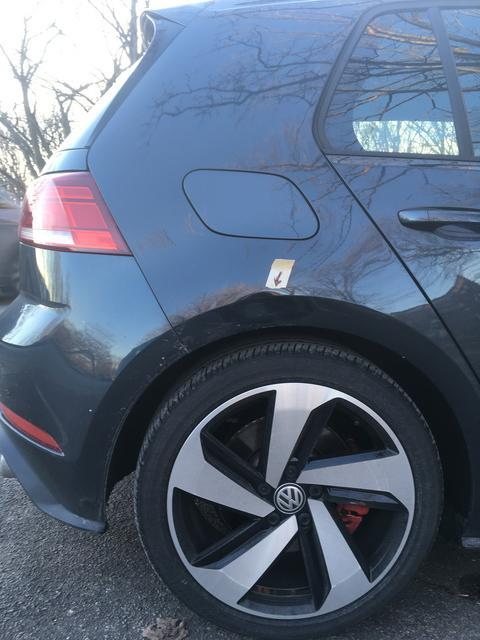quaterpanel-dent: (99, 133, 392, 420)
